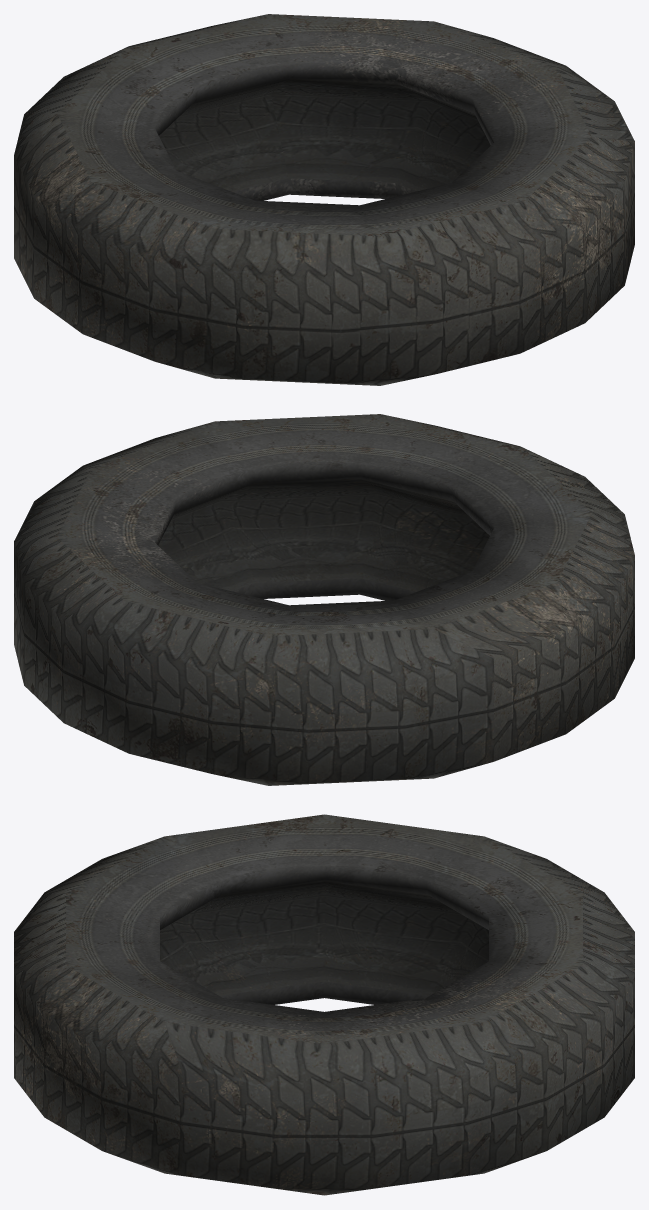
The model's file is Tire_LOD1.fbx.
3 renders of one model, top to bottom at view 1: azimuth 30°, elevation 25°; view 2: azimuth 150°, elevation 25°; view 3: azimuth 270°, elevation 25°, orthographic.
Parts seen in each view (by area): view 1: polySurface4; view 2: polySurface4; view 3: polySurface4.
Part boxes in pixels (left/top/right/bottom): polySurface4: left=14, top=14, right=634, bottom=385; polySurface4: left=14, top=414, right=634, bottom=785; polySurface4: left=14, top=814, right=634, bottom=1195.
Size of the model in its own units: 1.32 by 0.3558 by 1.32.
